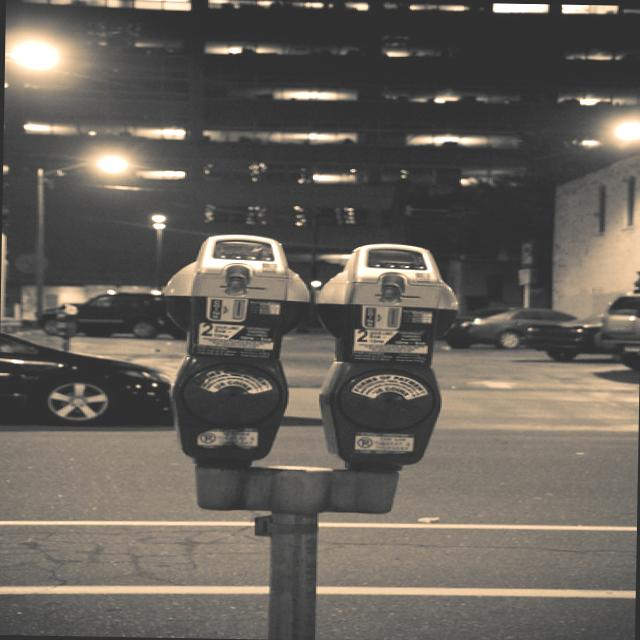Vehicle: (0, 330, 172, 428), (34, 290, 190, 341), (444, 306, 580, 352), (542, 310, 616, 362), (600, 286, 640, 370)
